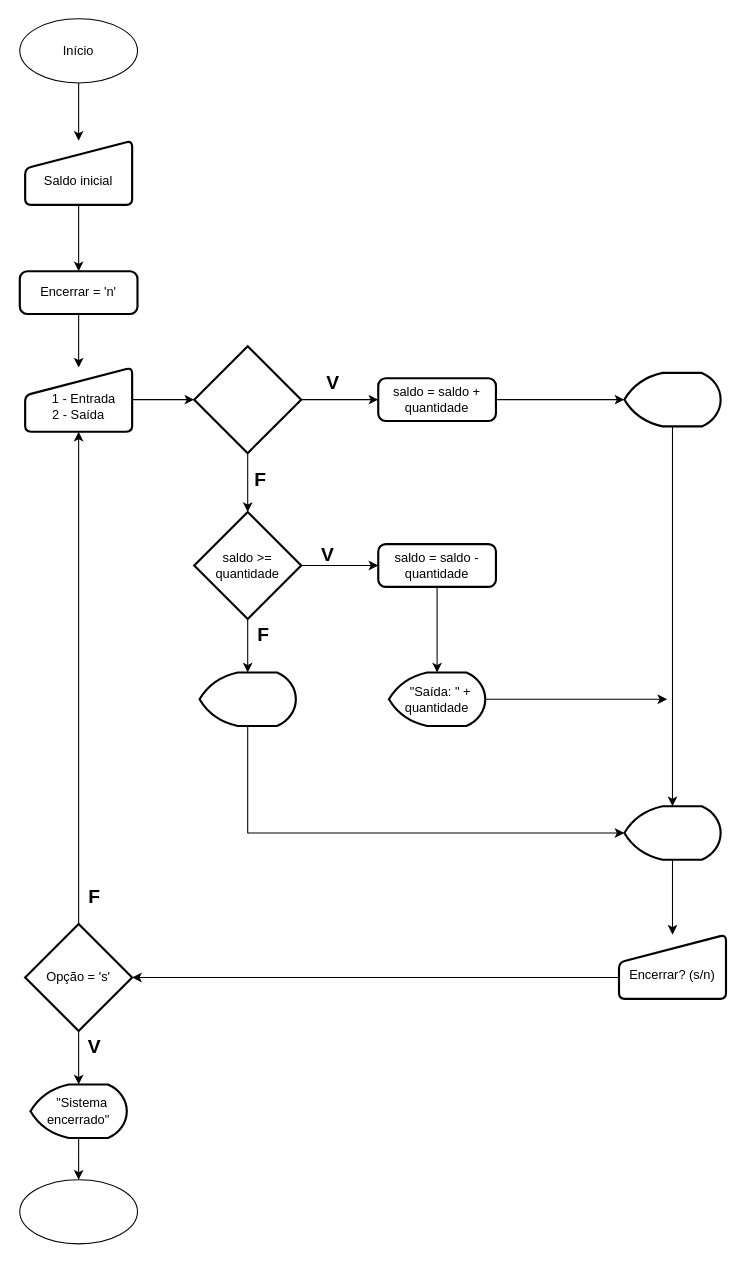
The diagram is 745 pixels wide and 1263 high, and some of its shapes have lost their labels. Each missing label, with the centre of its shape:
"Entrada: " + quantidade: (672,399)
"Saldo insuficiente": (247,699)
Fim: (78,1211)
Opção = 1: (247,399)
saldo: (672,832)
